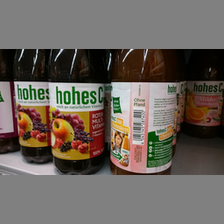juice: (108, 50, 174, 174), (48, 49, 105, 173), (12, 50, 50, 162), (182, 52, 222, 137)
